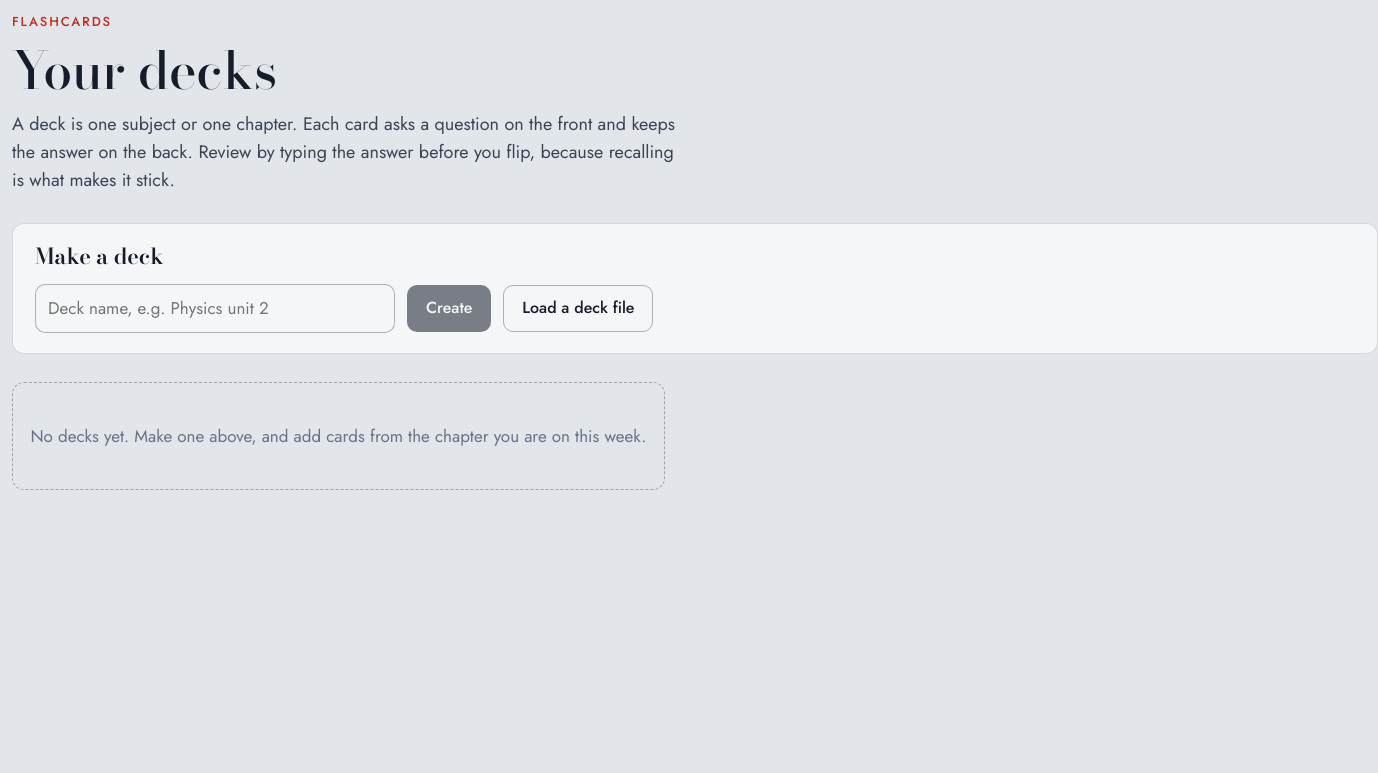
Test: flashcards › creates a deck and navigates to it
Expected: the text "No decks yet" is shown, [30,424,646,448]
In the field labelled "Deck name": (215,308) [35,284,395,332], type "Physics unit 2"
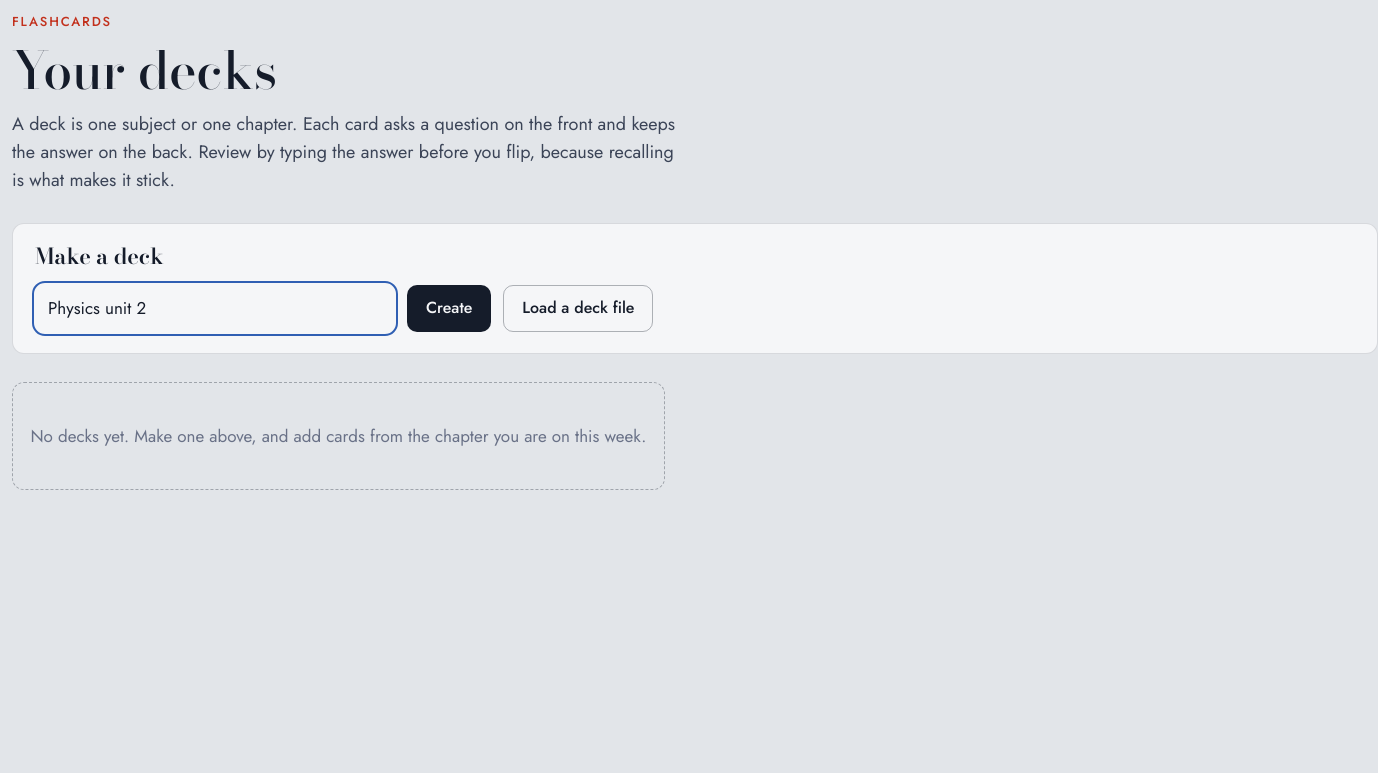
Click the button "Create": (449,308) [407,285,491,332]
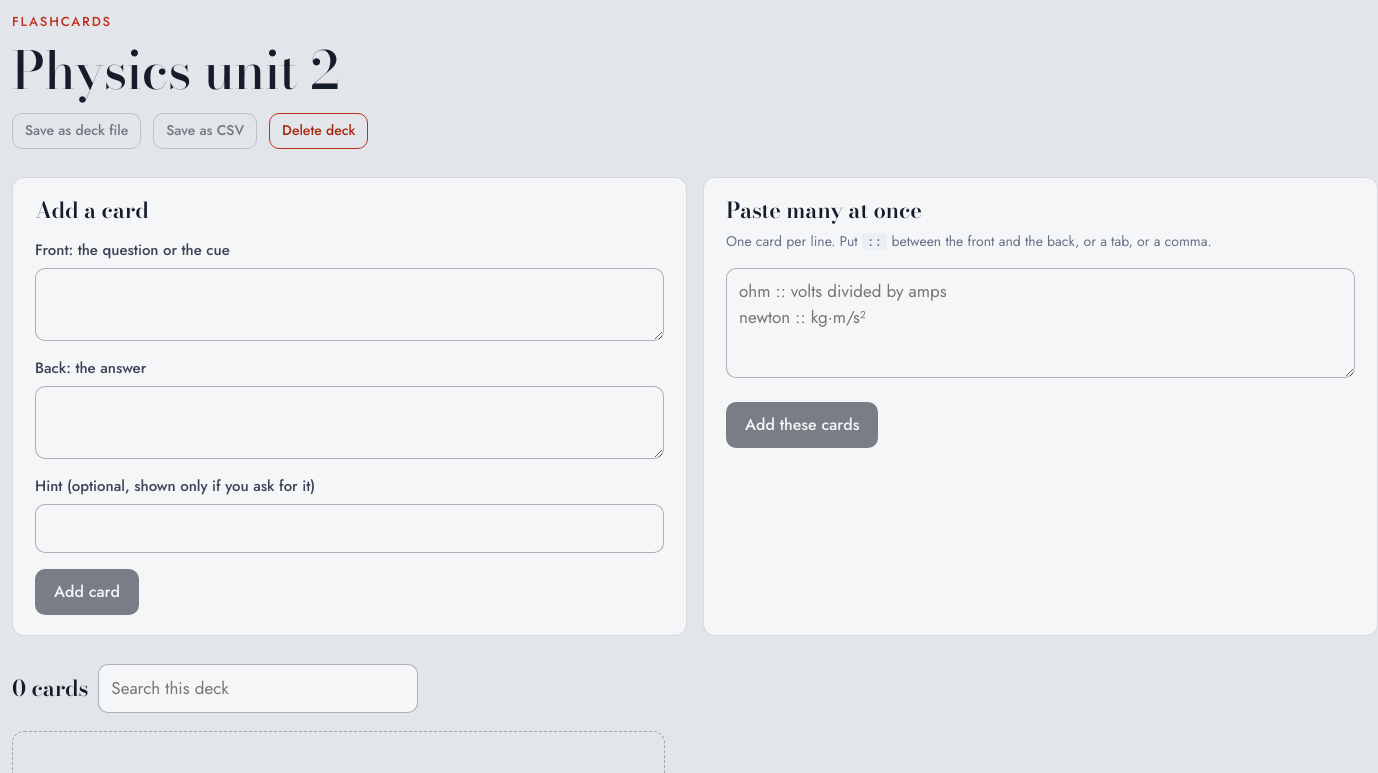
Expected: the heading "Physics unit 2" is shown, [12,30,339,110]
